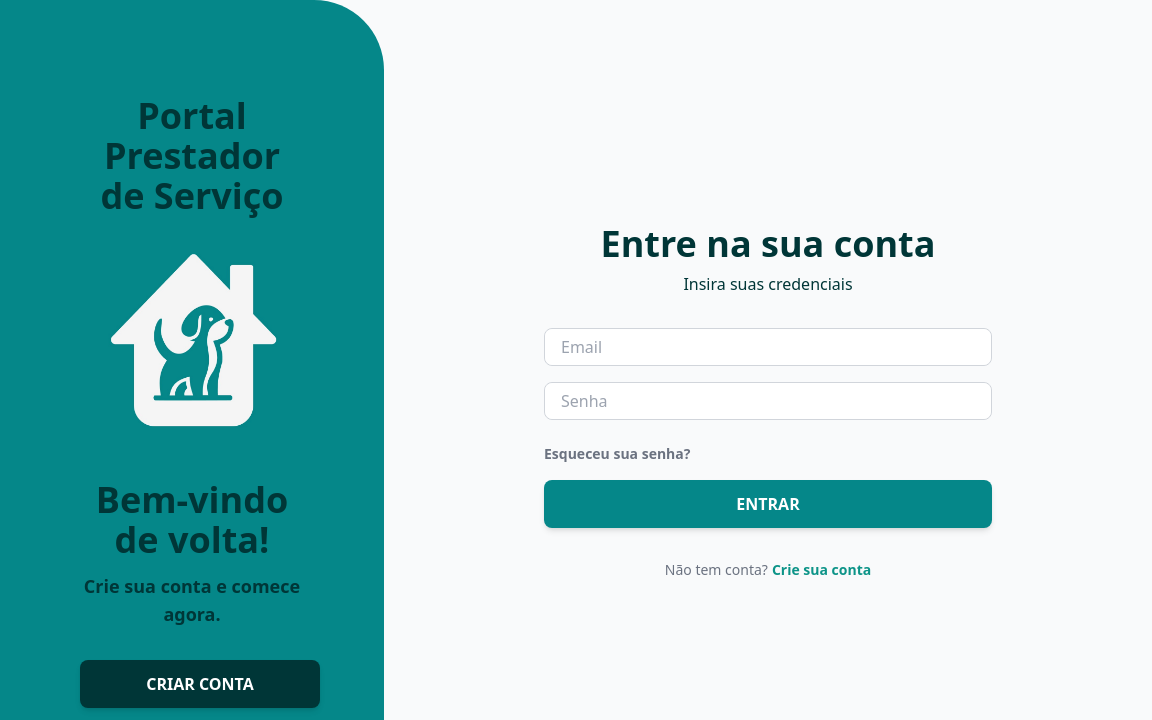
Scenario: Login Component › exibe mensagem de erro quando o login falha
Type "erro@email.com" into the field with placeholder "Email" at (768, 347), box left=545, top=329, right=991, bottom=365
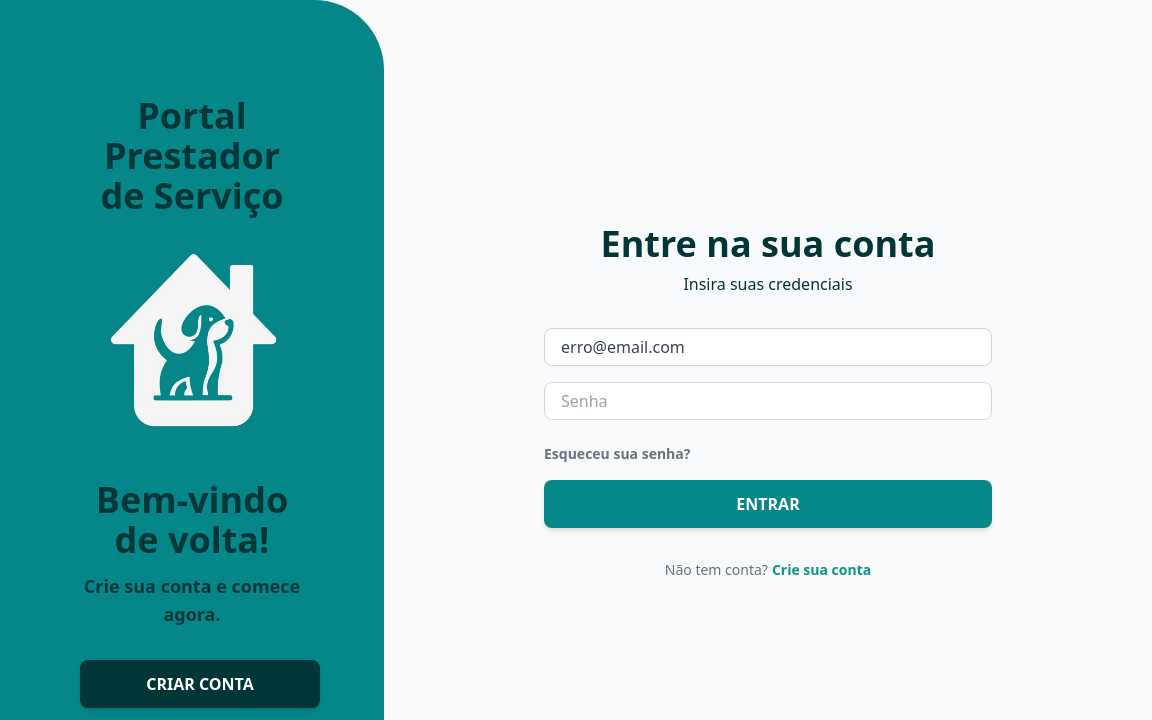
Type "senhaerrada" into the password field with placeholder "Senha" at (768, 401), box left=545, top=383, right=991, bottom=419
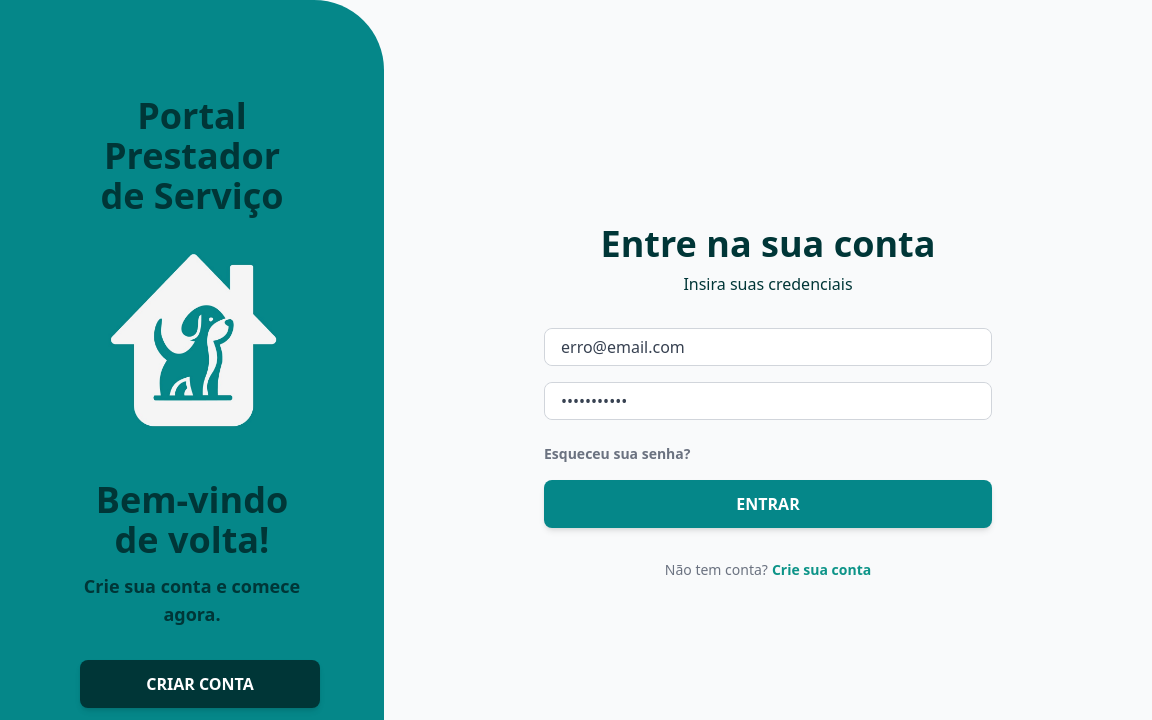
Click the button "ENTRAR" at (768, 504), box left=544, top=480, right=992, bottom=528
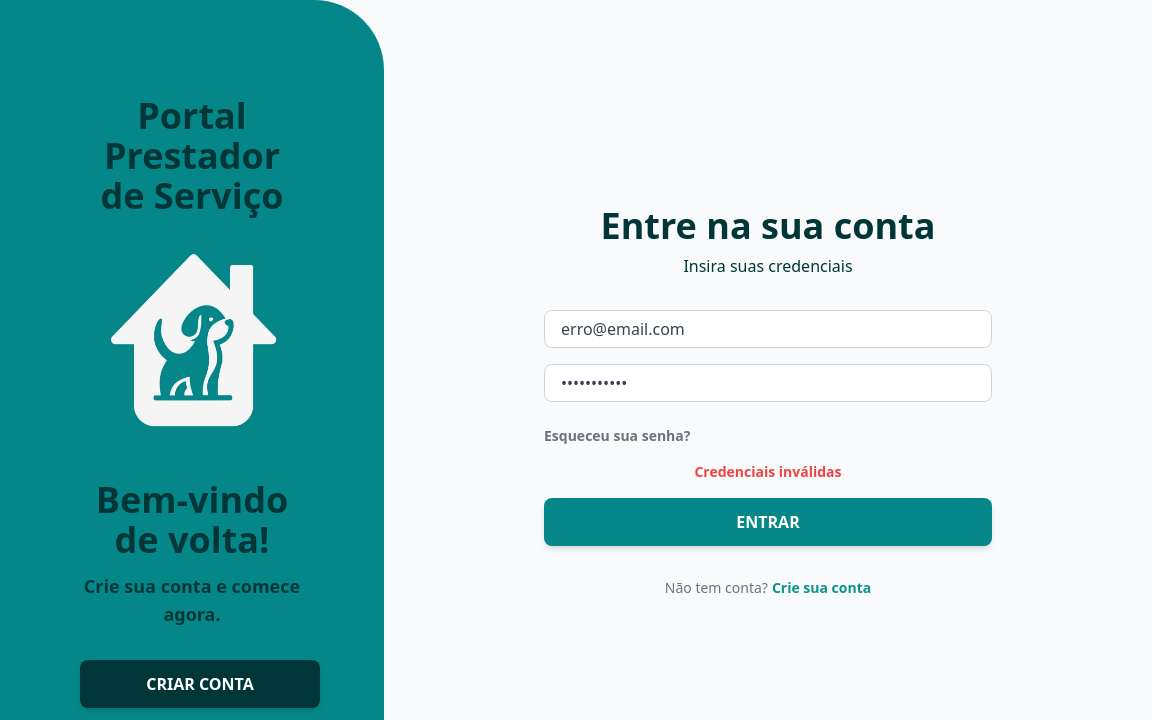
Result: the text "Credenciais inválidas" is shown at left=694, top=462, right=842, bottom=481
